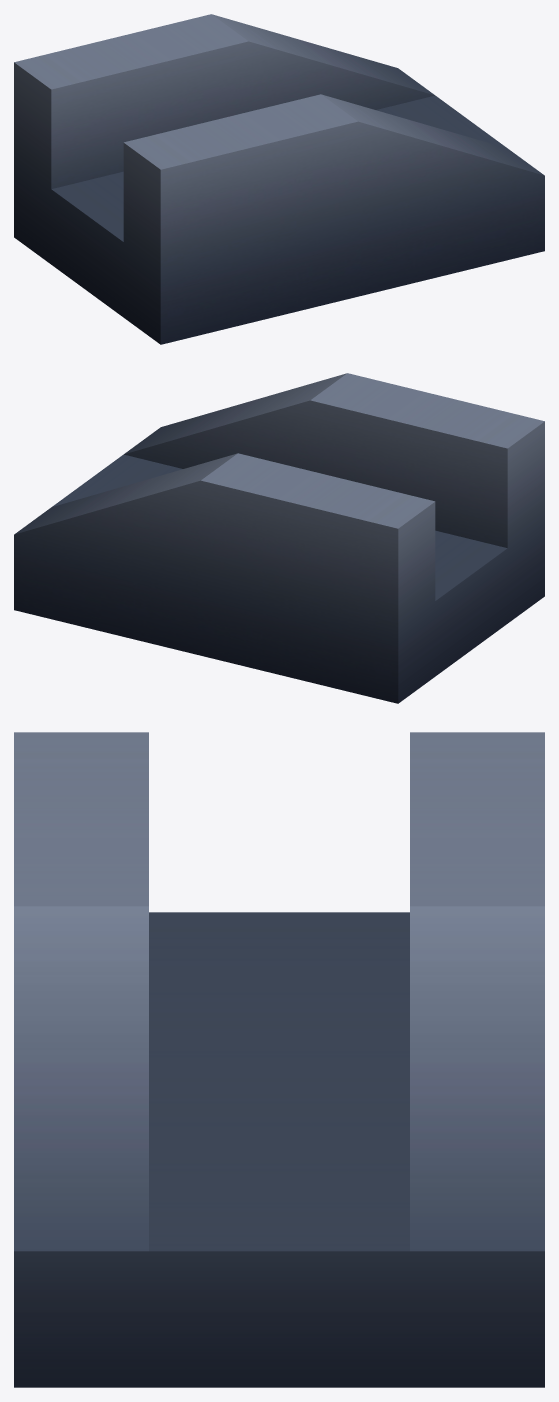
Rendered from Sight4.FBX.
3 views of the same model, one above another, from view 1: azimuth 30°, elevation 25°; view 2: azimuth 150°, elevation 25°; view 3: azimuth 270°, elevation 25° (orthographic). The views are drawn at different scales.
Visible parts, largest first — view 1: Box013; view 2: Box013; view 3: Box013.
Boxes of the visible parts, x1,y1,x2,y2 form: Box013: (14, 14, 544, 344); Box013: (14, 373, 544, 703); Box013: (14, 732, 544, 1387).
Bounding box in the file's own units: 2.1 × 0.9131 × 1.39.
